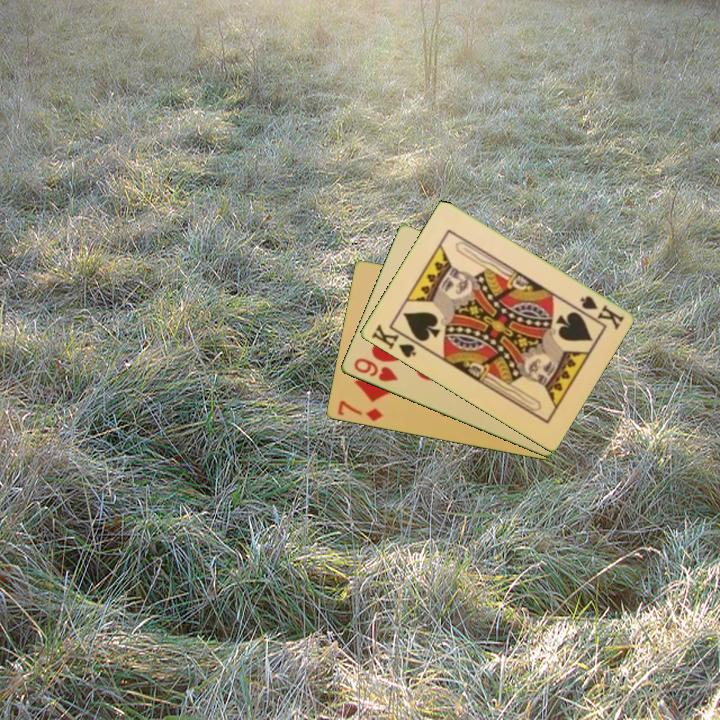7d: (334, 397, 385, 424)
9h: (350, 354, 401, 385)
Ks: (367, 321, 423, 361), (576, 292, 627, 333)
